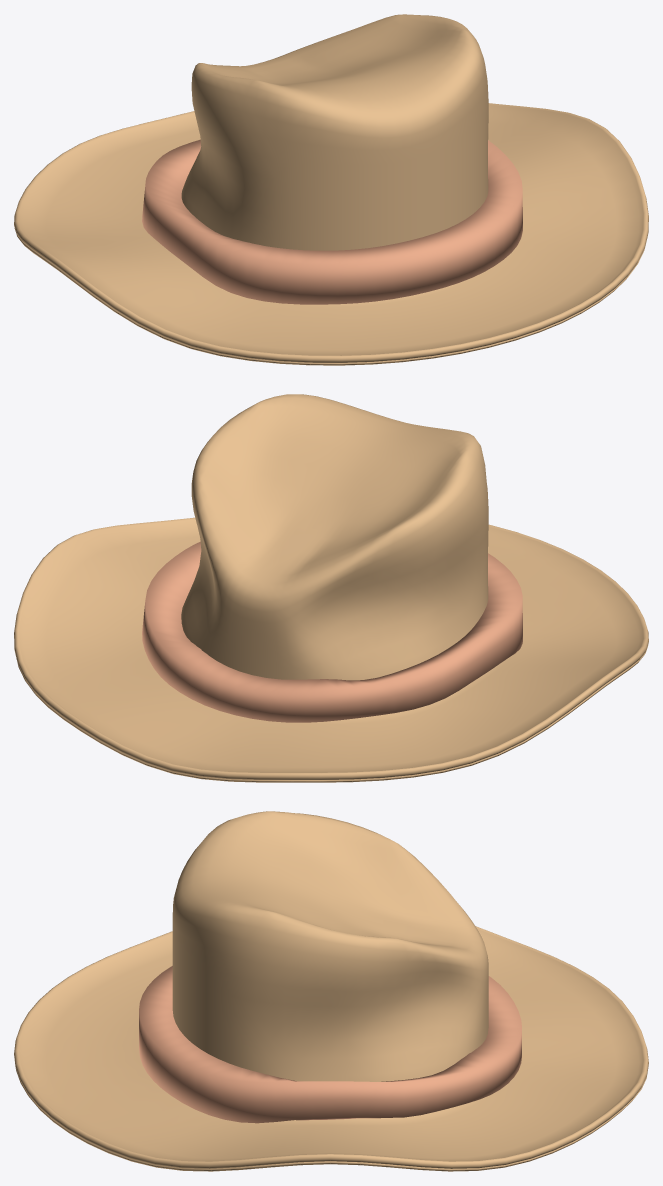
File: CowboyHat.fbx
The picture shows the model from 3 angles, top to bottom: view 1: azimuth 30°, elevation 25°; view 2: azimuth 150°, elevation 25°; view 3: azimuth 270°, elevation 25°; orthographic projection.
Visible parts, largest first — view 1: CowboyHat; view 2: CowboyHat; view 3: CowboyHat.
Part boxes in pixels (bbox=[...]): CowboyHat: bbox=[14, 14, 648, 365]; CowboyHat: bbox=[14, 394, 648, 782]; CowboyHat: bbox=[14, 811, 648, 1171].
Bounding box in the file's own units: 398 × 145 × 400.
